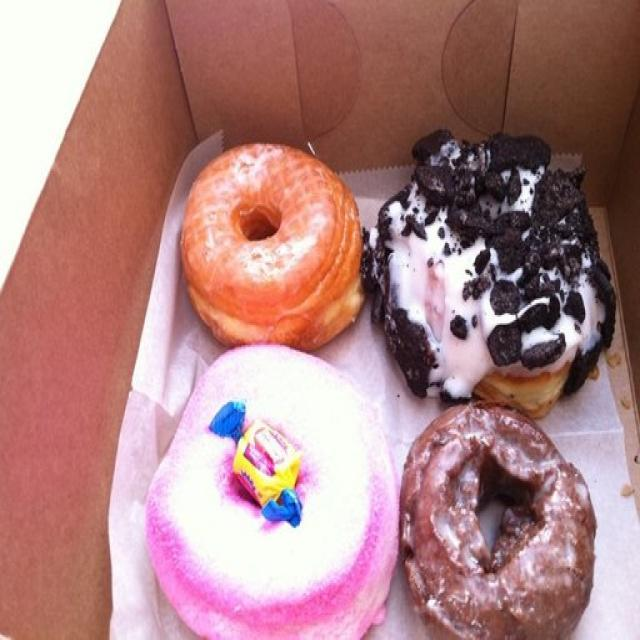Donuts: (134, 119, 613, 640)
